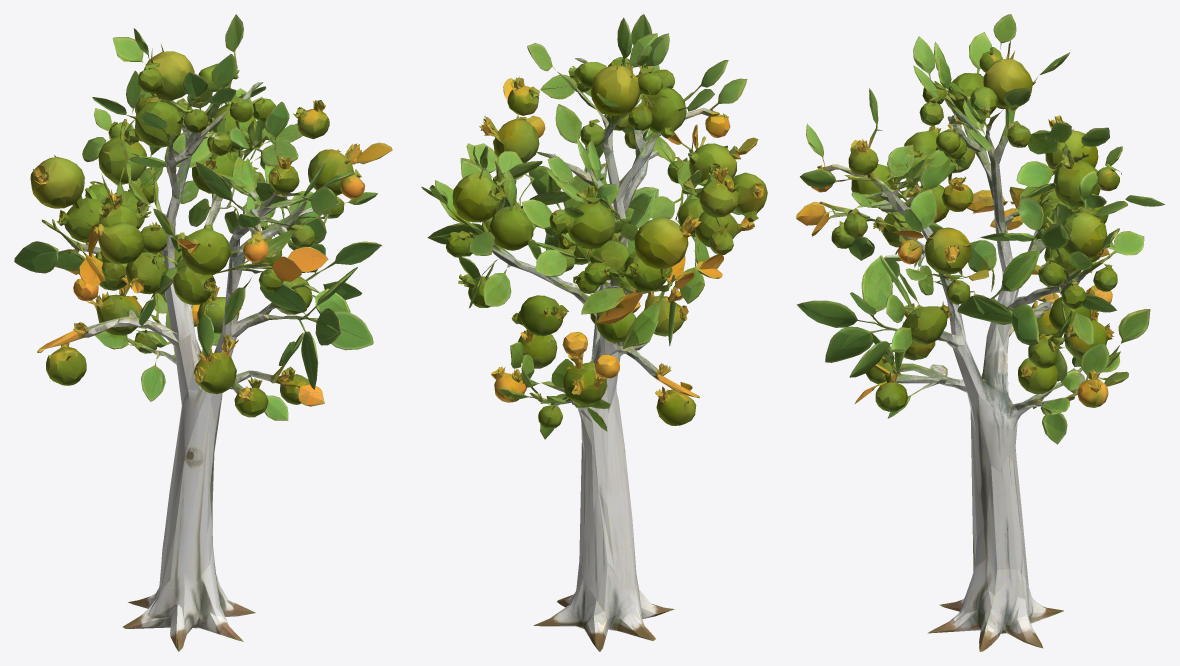
Rendered from gumtree.glb.
The picture shows the model from 3 angles, left to right: view 1: azimuth 30°, elevation 25°; view 2: azimuth 150°, elevation 25°; view 3: azimuth 270°, elevation 25°; orthographic projection. The views are drawn at different scales.
Bounding box in the file's own units: 0.9398 × 1.88 × 1.07.
Materials: 1 (1 with a texture image).
